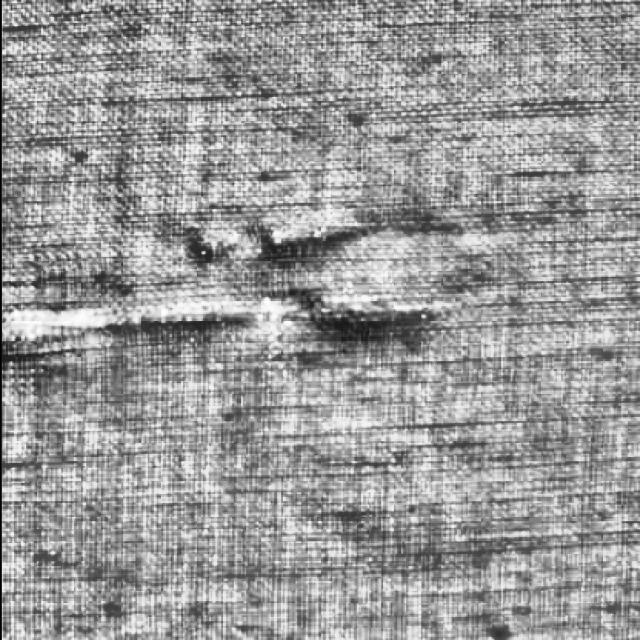thread_error: (0, 286, 498, 362), (176, 204, 454, 291)
